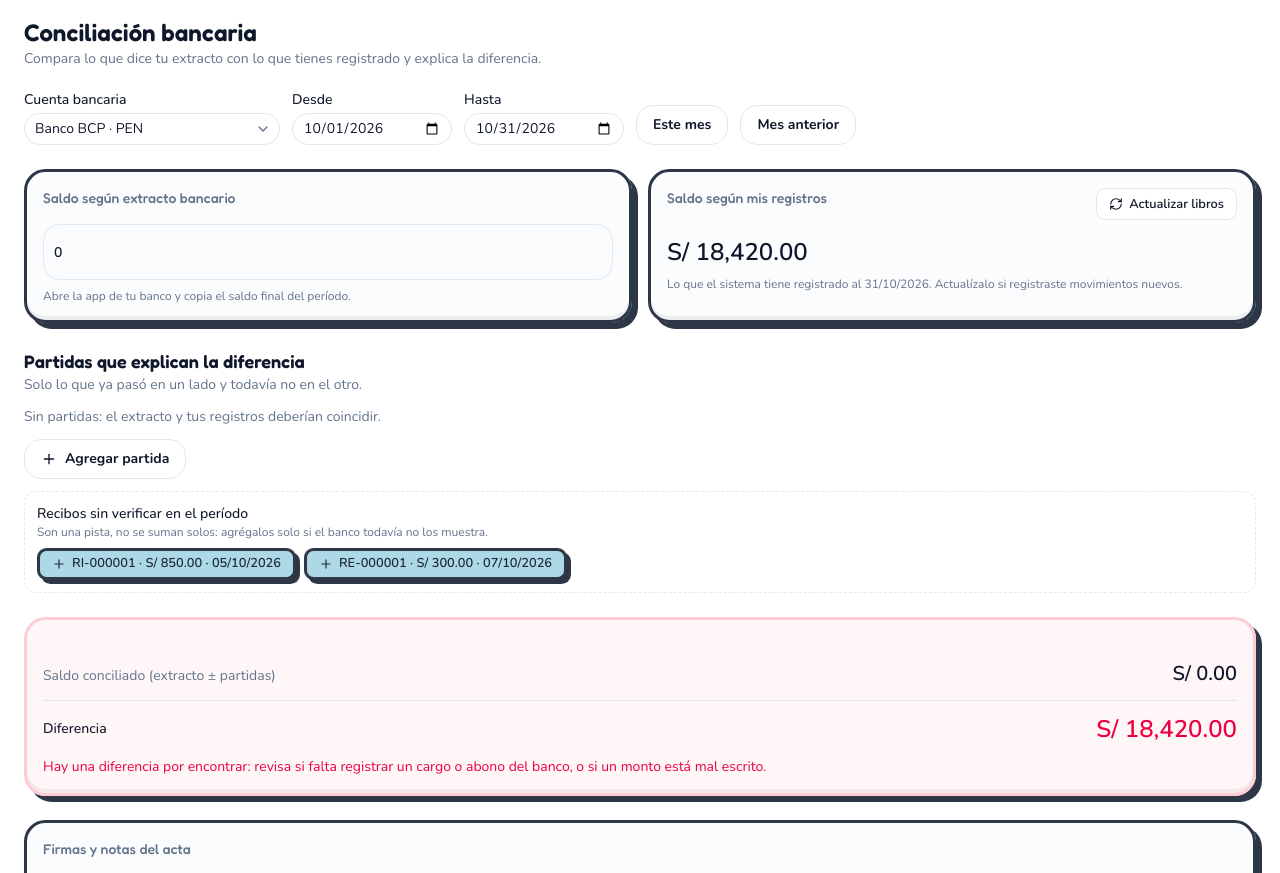
it: ConciliacionView › no guarda una partida sin descripción
Expected: the text "Saldo según mis registros" is shown, [667,188,827,208]
Click the button "Agregar partida".
click(105, 459)  # box [24,439,186,479]
(page scrolled)
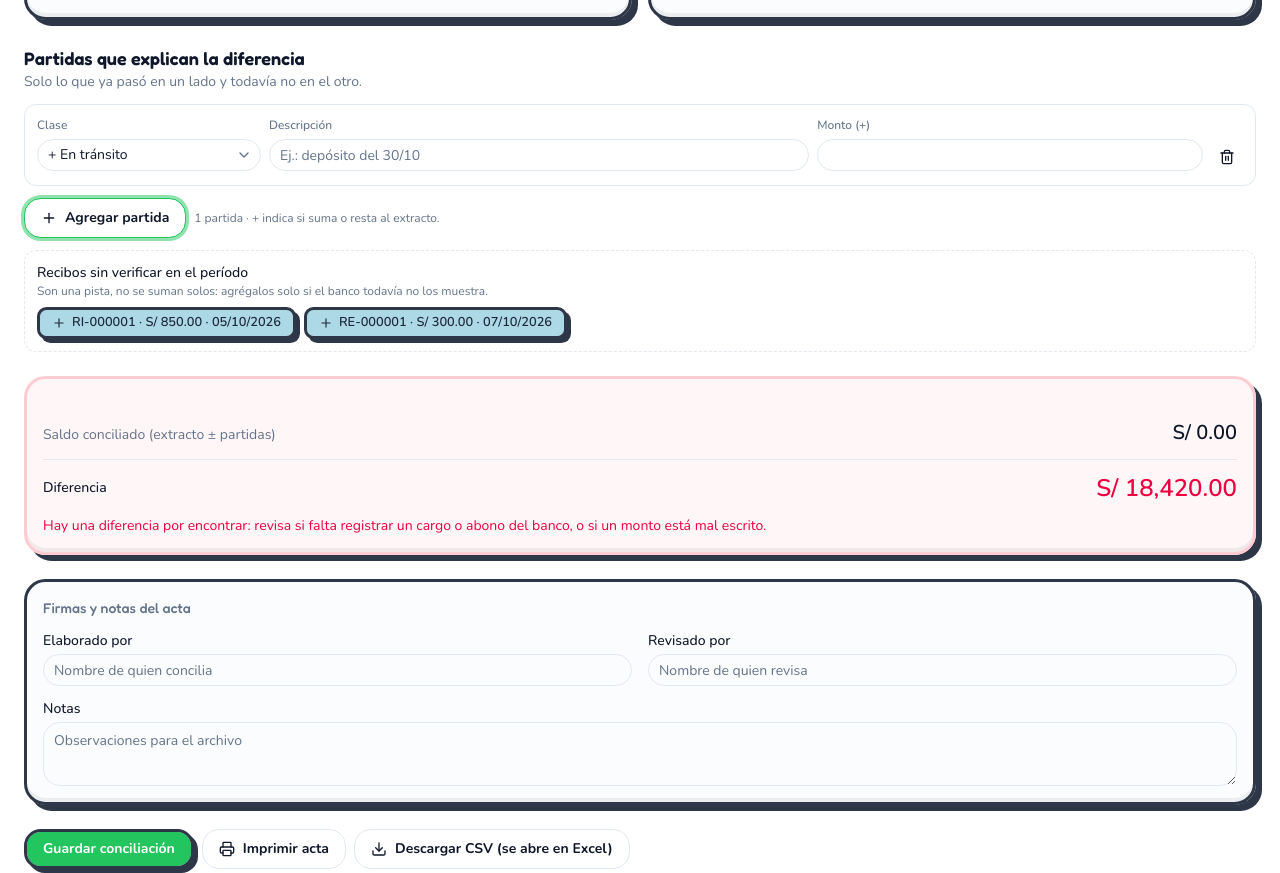
Click the button "Guardar conciliación".
click(109, 849)  # box [24,829,194,869]
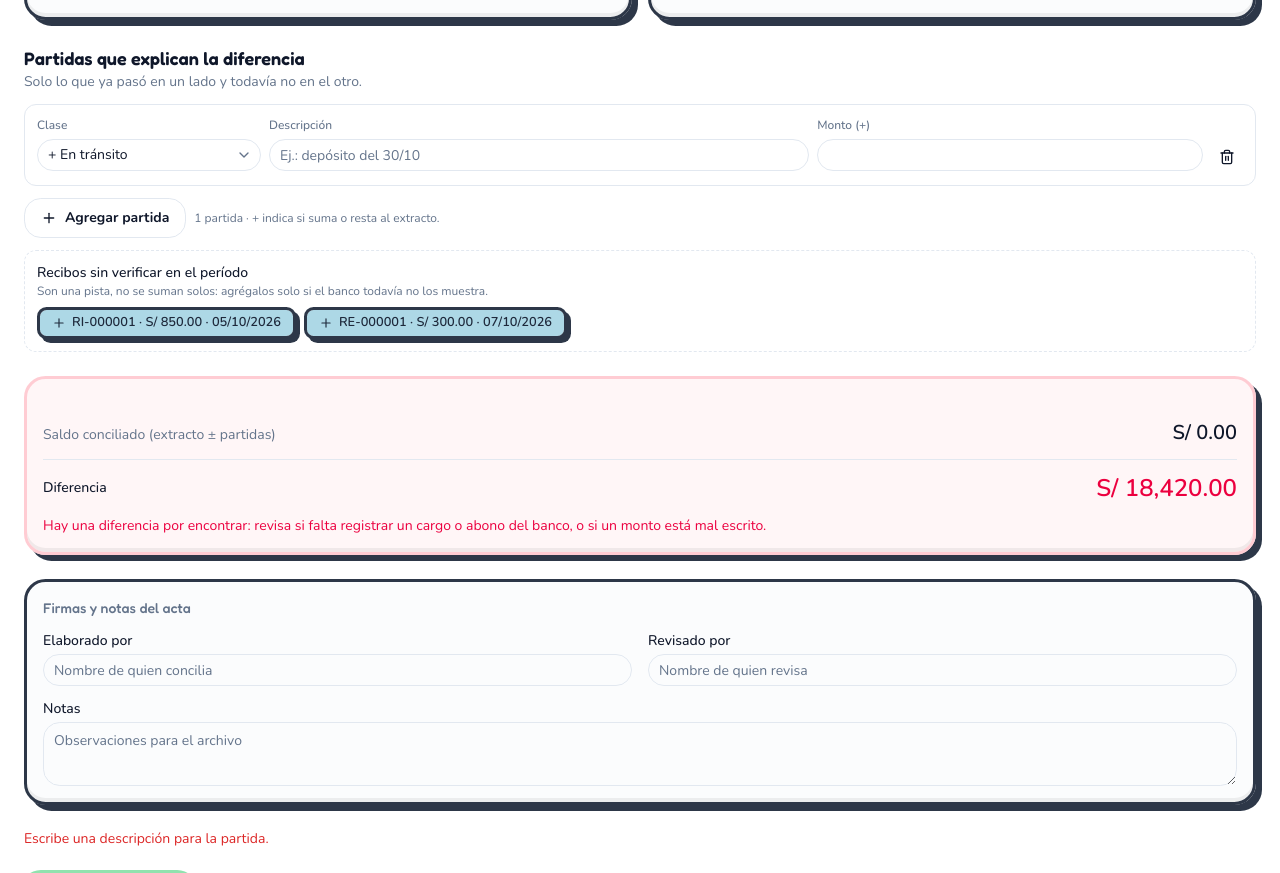
Result: the text "Escribe una descripción para la partida." is shown at [24,829,269,848]
